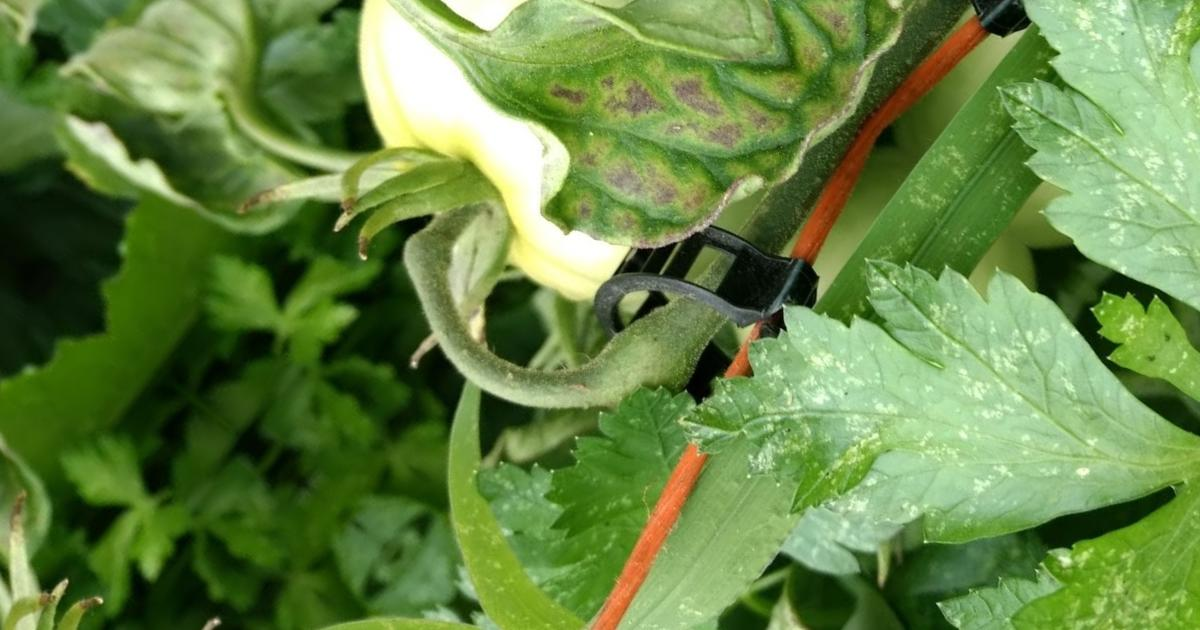Tomato leaf mosaic virus: (677, 168, 1200, 630)
